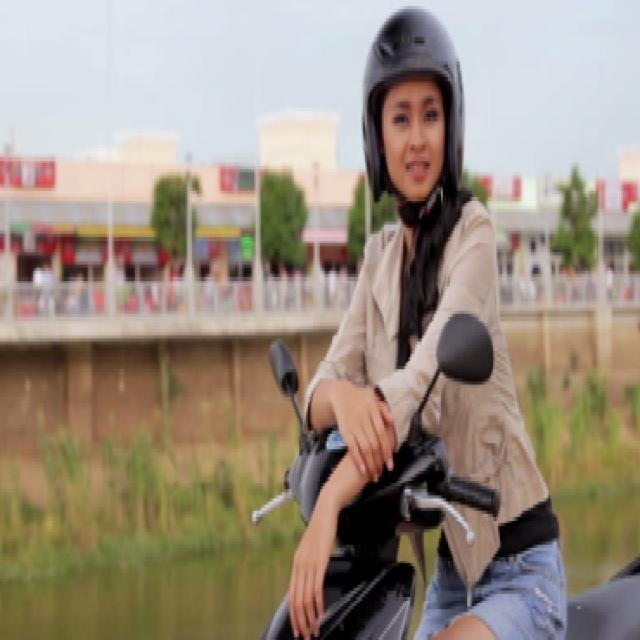Helmet: (352, 2, 470, 216)
